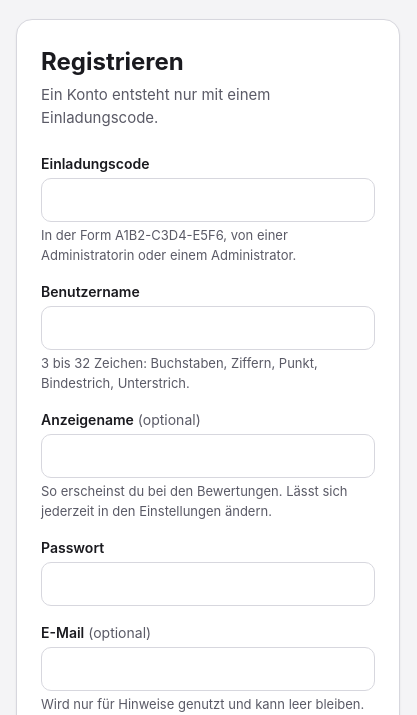
Test: RegisterPage › insists on an invite code before asking the server
Type "anna" into the field labelled "Benutzername" at x=208, y=328, box [41,306,375,350]
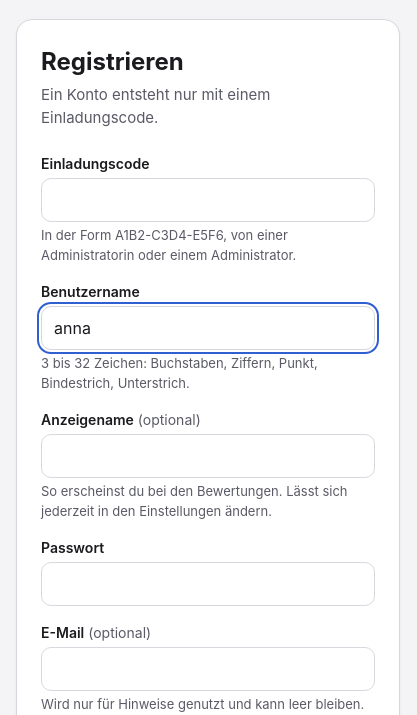
Type "ein-gutes-passwort" into the password field labelled "Passwort" at x=208, y=584, box [41,562,375,606]
(page scrolled)
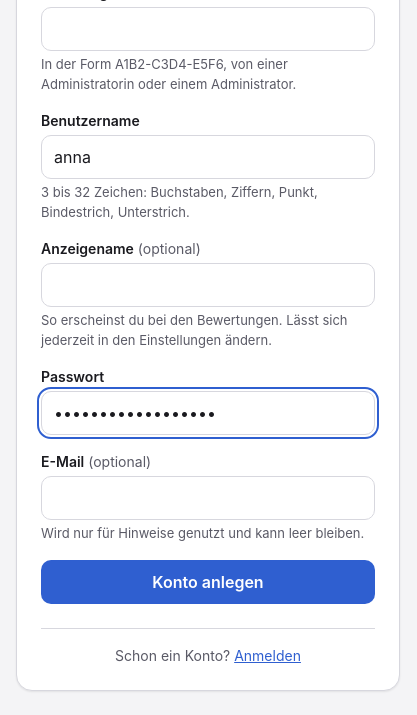
Click the button "Konto anlegen" at x=208, y=582, box [41,560,375,604]
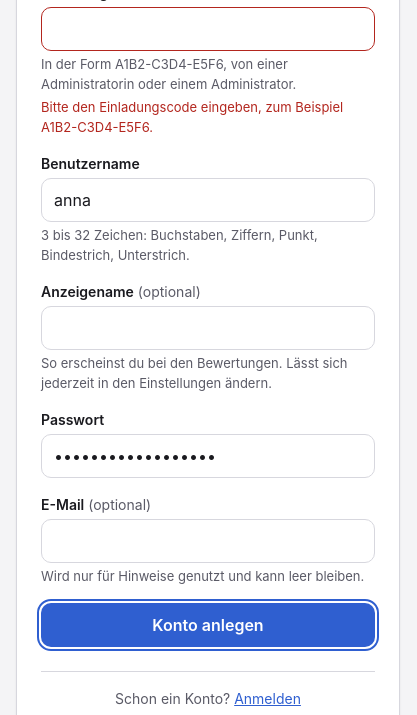
Now the text "Bitte den Einladungscode eingeben, zum Beispiel A1B2-C3D4-E5F6." is shown, box [41,98,375,137]
